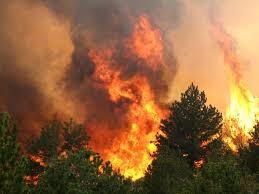fire: (76, 14, 172, 185), (211, 27, 258, 154)
